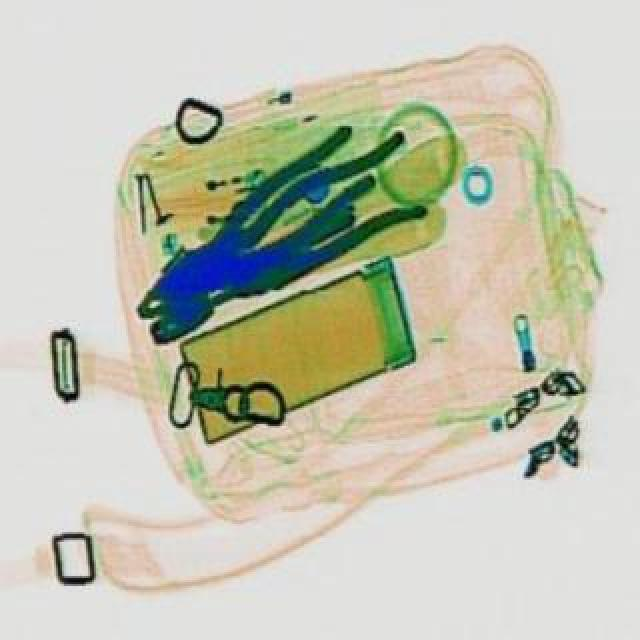wrench: (132, 124, 444, 326), (112, 118, 392, 334)
